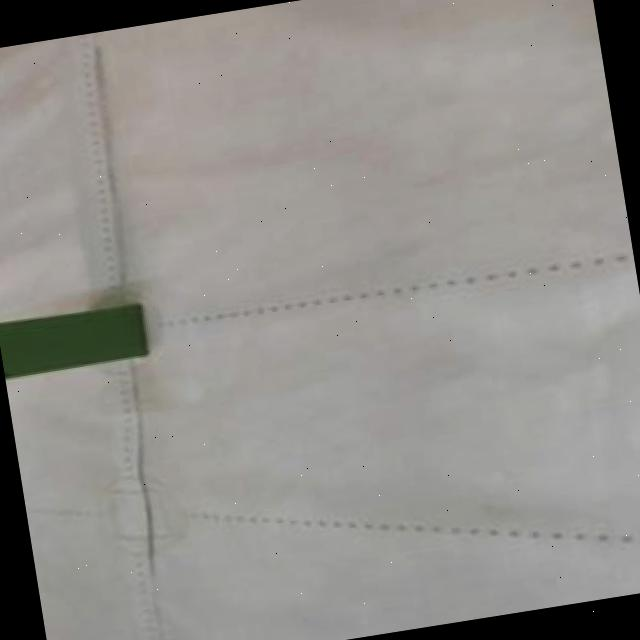greenbox: (0, 299, 154, 378)
